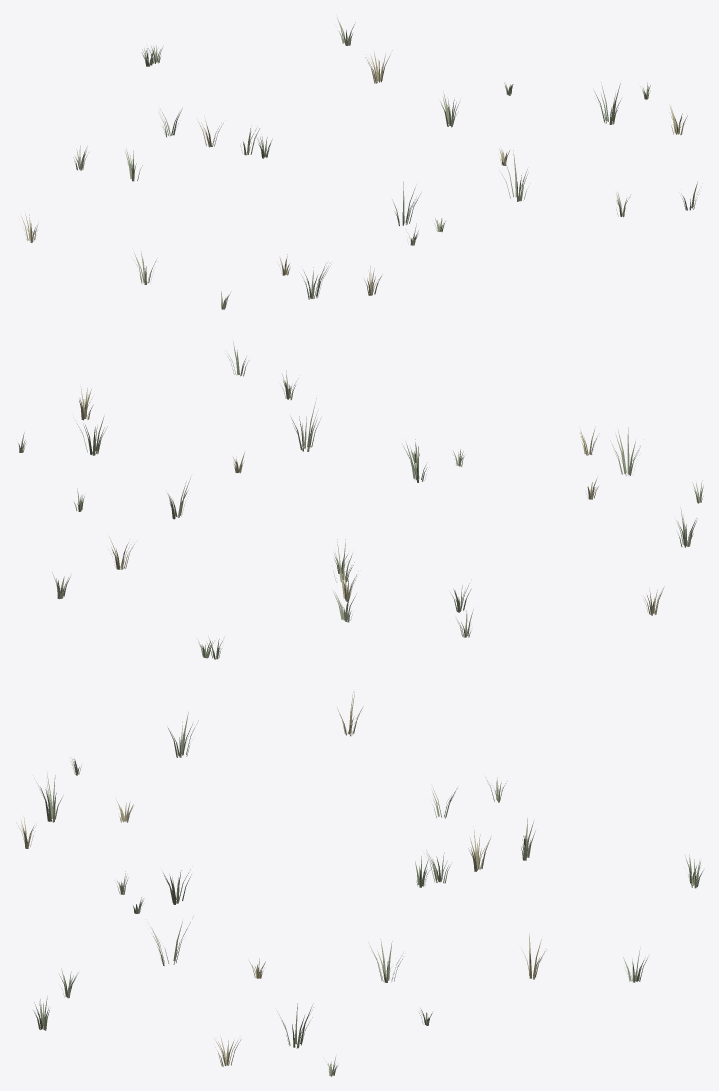
Rendered from AE_Grass_2_-3.fbx.
The picture shows the model from 3 angles, top to bottom: view 1: azimuth 30°, elevation 25°; view 2: azimuth 150°, elevation 25°; view 3: azimuth 270°, elevation 25°; orthographic projection. The views are drawn at different scales.
Parts seen in each view (by area): view 1: AE_Grass_2_-3_LOD0; view 2: AE_Grass_2_-3_LOD0; view 3: AE_Grass_2_-3_LOD0.
Boxes of the visible parts, <box> form: AE_Grass_2_-3_LOD0: <box>21,17,697,309</box>; AE_Grass_2_-3_LOD0: <box>18,341,703,659</box>; AE_Grass_2_-3_LOD0: <box>16,692,703,1076</box>.
Size of what is drawn, in the model's own units: 1469 by 107 by 1218.
